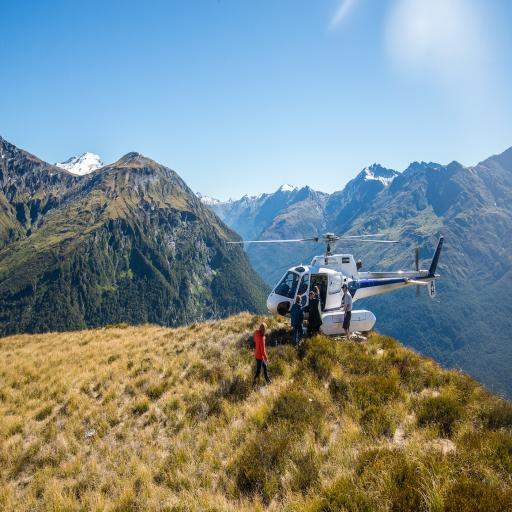helicopter: (228, 222, 451, 333)
